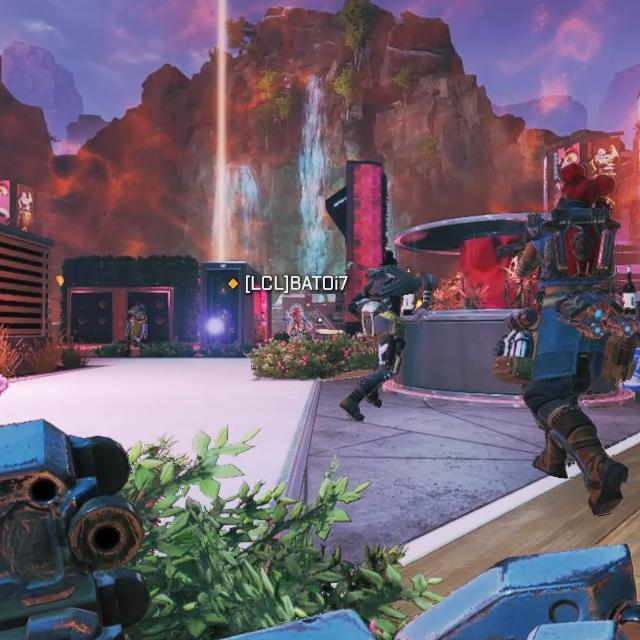avatar: (490, 160, 633, 520), (336, 247, 423, 425)
